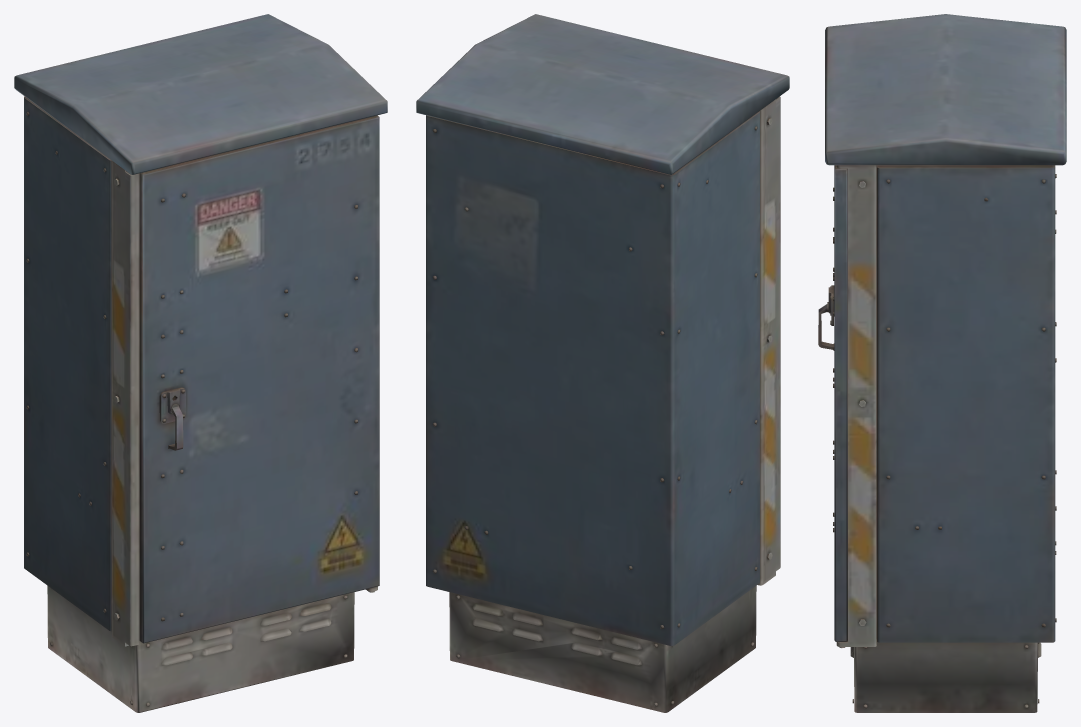
3 renders of one model, left to right at view 1: azimuth 30°, elevation 25°; view 2: azimuth 150°, elevation 25°; view 3: azimuth 270°, elevation 25°, orthographic.
Visible parts, largest first — view 1: utility_box_01_box; view 2: utility_box_01_box; view 3: utility_box_01_box.
Part boxes in pixels (x1,y1,x2,y2): utility_box_01_box: (14,14,387,712); utility_box_01_box: (416,14,789,712); utility_box_01_box: (818,14,1066,712).
Bounding box in the file's own units: 0.52 × 1.12 × 0.432.
Materials: 1 (1 with a texture image).
